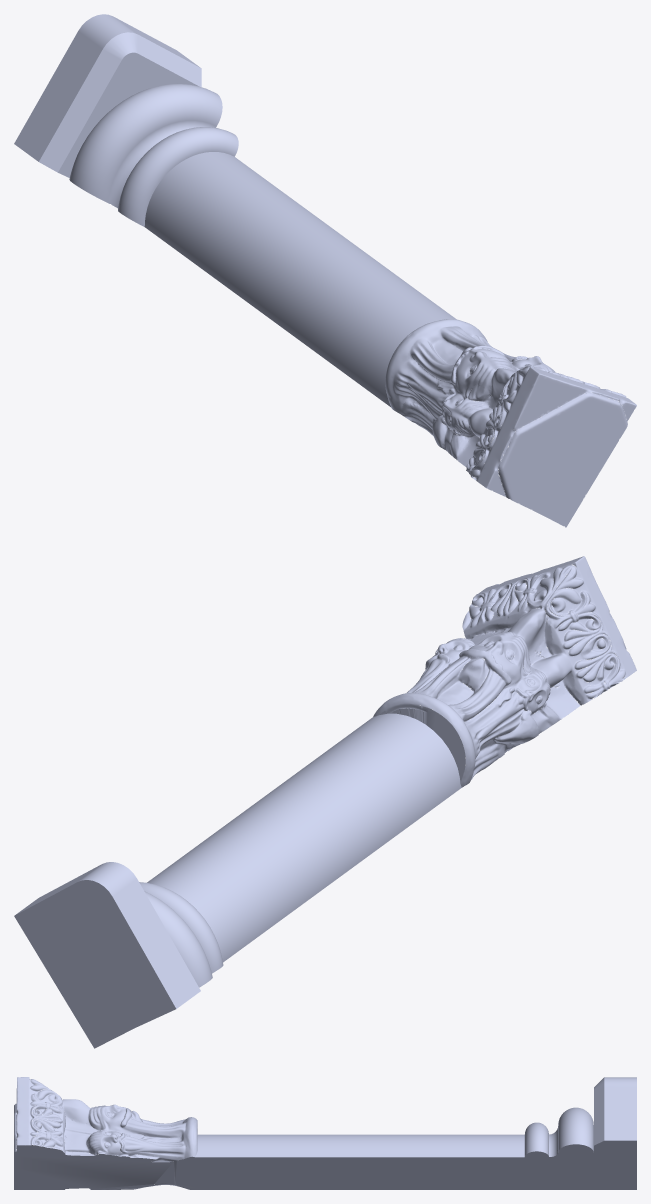
File: Chapiteau_9_low_final.glb
3 views of the same model, one above another, from view 1: azimuth 30°, elevation 25°; view 2: azimuth 150°, elevation 25°; view 3: azimuth 270°, elevation 25° (orthographic). The views are drawn at different scales.
Visible parts, largest first — view 1: Chapiteau_9_ultra_final.glb; view 2: Chapiteau_9_ultra_final.glb; view 3: Chapiteau_9_ultra_final.glb.
Boxes of the visible parts, <box> form: Chapiteau_9_ultra_final.glb: <box>14,14,636,527</box>; Chapiteau_9_ultra_final.glb: <box>14,556,636,1048</box>; Chapiteau_9_ultra_final.glb: <box>14,1077,636,1189</box>.
Size of the model in its own units: 0.7232 by 0.7131 by 3.61.
